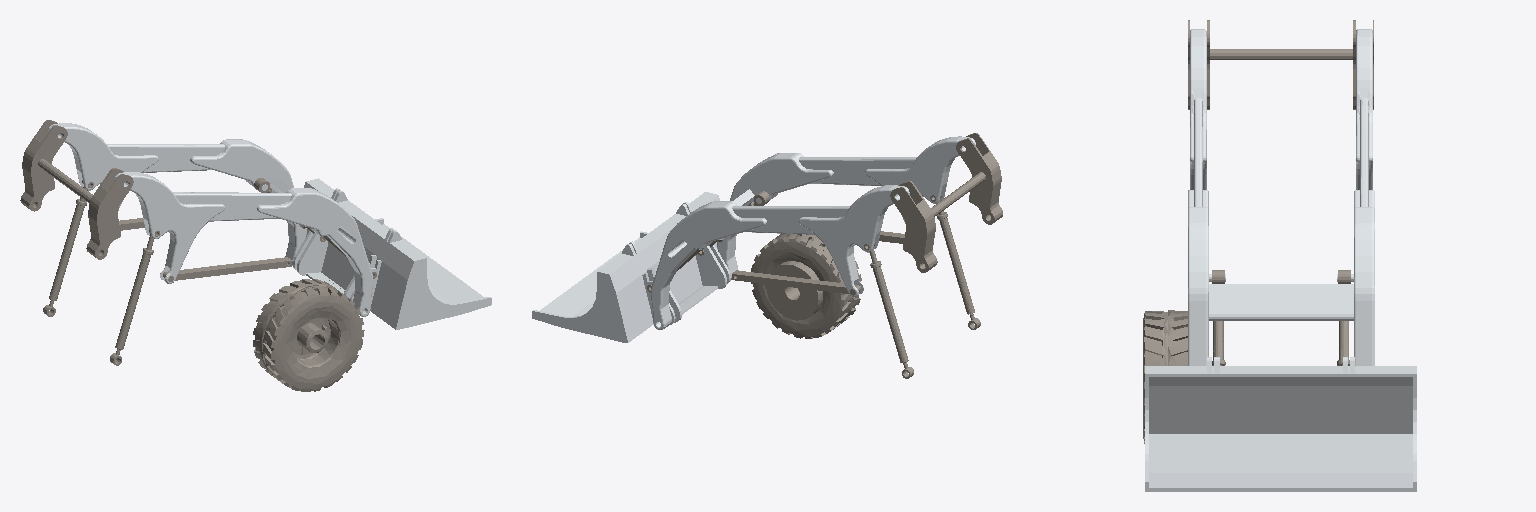
URDF robot description (bobcat):
<?xml version="1.0"?>
<robot name="bobcat">
  <link name="body">
    <inertial>
      <origin
        xyz="-0.890714078986241 0.000176354230843794 0.525609535873677"
        rpy="0 0 0" />
      <mass
        value="5018.57981030941" />
      <inertia
        ixx="1272.55944993386"
        ixy="0.30897993676798"
        ixz="-158.353301657466"
        iyy="2264.90693597666"
        iyz="-0.107097171125939"
        izz="2025.98192908188" />
    </inertial>
    <visual>
      <origin
        xyz="0 0 0"
        rpy="0 0 0" />
      <geometry>
        <mesh
          filename="package://srvss_bobcat/sdf_models/srvss_bobcat/meshes/body.STL" />
      </geometry>
      <material
        name="">
        <color
          rgba="0.647058823529412 0.619607843137255 0.588235294117647 0.5" />
      </material>
    </visual>
    <collision>
      <origin
        xyz="0 0 0"
        rpy="0 0 0" />
      <geometry>
        <mesh
          filename="package://srvss_bobcat/sdf_models/srvss_bobcat/meshes/body.STL" />
      </geometry>
    </collision>
  </link>
  <link name="front_left_wheel">
    <inertial>
      <origin
        xyz="2.0502E-07 0.19645 -3.6566E-09"
        rpy="0 0 0" />
      <mass
        value="1113.6" />
      <inertia
        ixx="57.645"
        ixy="-0.0001268"
        ixz="0.00024451"
        iyy="96.158"
        iyz="-4.2461E-05"
        izz="57.645" />
    </inertial>
    <visual>
      <origin
        xyz="0 0 0"
        rpy="0 0 0" />
      <geometry>
        <mesh
          filename="package://srvss_bobcat/sdf_models/srvss_bobcat/meshes/front_left_wheel.STL" />
      </geometry>
      <material
        name="">
        <color
          rgba="0.64706 0.61961 0.58824 1" />
      </material>
    </visual>
    <collision>
      <origin
        xyz="0 0 0"
        rpy="0 0 0" />
      <geometry>
        <mesh
          filename="package://srvss_bobcat/sdf_models/srvss_bobcat/meshes/front_left_wheel.STL" />
      </geometry>
    </collision>
  </link>
  <joint name="front_left_wheel_joint" type="continuous">
    <origin
      xyz="-0.22722 0.47558 0.125"
      rpy="0 2.1164E-16 0" />
    <parent
      link="body" />
    <child
      link="front_left_wheel" />
    <axis
      xyz="0 1 0" />
  </joint>
  <link name="front_right_wheel">
    <inertial>
      <origin
        xyz="-2.0519E-07 -0.19645 -4.3198E-09"
        rpy="0 0 0" />
      <mass
        value="1113.6" />
      <inertia
        ixx="57.645"
        ixy="-0.00012695"
        ixz="-0.00024494"
        iyy="96.158"
        iyz="4.2098E-05"
        izz="57.645" />
    </inertial>
    <visual>
      <origin
        xyz="0 0 0"
        rpy="0 0 0" />
      <geometry>
        <mesh
          filename="package://srvss_bobcat/sdf_models/srvss_bobcat/meshes/front_right_wheel.STL" />
      </geometry>
      <material
        name="">
        <color
          rgba="0.64706 0.61961 0.58824 1" />
      </material>
    </visual>
    <collision>
      <origin
        xyz="0 0 0"
        rpy="0 0 0" />
      <geometry>
        <mesh
          filename="package://srvss_bobcat/sdf_models/srvss_bobcat/meshes/front_right_wheel.STL" />
      </geometry>
    </collision>
  </link>
  <joint name="front_right_wheel_joint" type="continuous">
    <origin
      xyz="-0.22722 -0.47558 0.125"
      rpy="0 2.1164E-16 0" />
    <parent
      link="body" />
    <child
      link="front_right_wheel" />
    <axis
      xyz="0 1 0" />
  </joint>
  <link name="back_left_wheel">
    <inertial>
      <origin
        xyz="7.7344E-08 0.19645 1.8868E-07"
        rpy="0 0 0" />
      <mass
        value="1113.6" />
      <inertia
        ixx="57.645"
        ixy="-9.3672E-06"
        ixz="-0.00022863"
        iyy="96.158"
        iyz="-0.00013365"
        izz="57.645" />
    </inertial>
    <visual>
      <origin
        xyz="0 0 0"
        rpy="0 0 0" />
      <geometry>
        <mesh
          filename="package://srvss_bobcat/sdf_models/srvss_bobcat/meshes/back_left_wheel.STL" />
      </geometry>
      <material
        name="">
        <color
          rgba="0.64706 0.61961 0.58824 1" />
      </material>
    </visual>
    <collision>
      <origin
        xyz="0 0 0"
        rpy="0 0 0" />
      <geometry>
        <mesh
          filename="package://srvss_bobcat/sdf_models/srvss_bobcat/meshes/back_left_wheel.STL" />
      </geometry>
    </collision>
  </link>
  <joint name="back_left_wheel_joint" type="continuous">
    <origin
      xyz="-1.227 0.47558 0.14772"
      rpy="0 2.1164E-16 0" />
    <parent
      link="body" />
    <child
      link="back_left_wheel" />
    <axis
      xyz="0 1 0" />
  </joint>
  <link name="back_right_wheel">
    <inertial>
      <origin
        xyz="-1.4894E-07 -0.19645 1.3751E-07"
        rpy="0 0 0" />
      <mass
        value="1113.6" />
      <inertia
        ixx="57.645"
        ixy="-6.7699E-05"
        ixz="4.3277E-05"
        iyy="96.158"
        iyz="0.00011578"
        izz="57.645" />
    </inertial>
    <visual>
      <origin
        xyz="0 0 0"
        rpy="0 0 0" />
      <geometry>
        <mesh
          filename="package://srvss_bobcat/sdf_models/srvss_bobcat/meshes/back_right_wheel.STL" />
      </geometry>
      <material
        name="">
        <color
          rgba="0.64706 0.61961 0.58824 1" />
      </material>
    </visual>
    <collision>
      <origin
        xyz="0 0 0"
        rpy="0 0 0" />
      <geometry>
        <mesh
          filename="package://srvss_bobcat/sdf_models/srvss_bobcat/meshes/back_right_wheel.STL" />
      </geometry>
    </collision>
  </link>
  <joint name="back_right_wheel_joint" type="continuous">
    <origin
      xyz="-1.227 -0.47558 0.14772"
      rpy="0 2.1164E-16 0" />
    <parent
      link="body" />
    <child
      link="back_right_wheel" />
    <axis
      xyz="0 1 0" />
  </joint>
  <link name="base_arm">
    <inertial>
      <origin
        xyz="0.066509 1.9771E-12 0.25686"
        rpy="0 0 0" />
      <mass
        value="194.91" />
      <inertia
        ixx="50.76"
        ixy="-2.9264E-11"
        ixz="0.66798"
        iyy="4.8017"
        iyz="7.0403E-12"
        izz="47.388" />
    </inertial>
    <visual>
      <origin
        xyz="0 0 0"
        rpy="0 0 0" />
      <geometry>
        <mesh
          filename="package://srvss_bobcat/sdf_models/srvss_bobcat/meshes/base_arm.STL" />
      </geometry>
      <material
        name="">
        <color
          rgba="0.64706 0.61961 0.58824 1" />
      </material>
    </visual>
    <collision>
      <origin
        xyz="0 0 0"
        rpy="0 0 0" />
      <geometry>
        <mesh
          filename="package://srvss_bobcat/sdf_models/srvss_bobcat/meshes/base_arm.STL" />
      </geometry>
    </collision>
  </link>
  <joint name="base_arm_joint" type="fixed">
    <origin
      xyz="-1.9776 0 1.1773"
      rpy="0 2.1164E-16 0" />
    <parent
      link="body" />
    <child
      link="base_arm" />
  </joint>
  <link name="main_arm">
    <inertial>
      <origin
        xyz="1.1865 -4.0206E-07 -0.60466"
        rpy="0 0 0" />
      <mass
        value="369.05" />
      <inertia
        ixx="133.74"
        ixy="0.00012791"
        ixz="-68.753"
        iyy="216.24"
        iyz="-4.6593E-05"
        izz="268.55" />
    </inertial>
    <visual>
      <origin
        xyz="0 0 0"
        rpy="0 0 0" />
      <geometry>
        <mesh
          filename="package://srvss_bobcat/sdf_models/srvss_bobcat/meshes/main_arm.STL" />
      </geometry>
      <material
        name="">
        <color
          rgba="0.89412 0.91373 0.92941 1" />
      </material>
    </visual>
    <collision>
      <origin
        xyz="0 0 0"
        rpy="0 0 0" />
      <geometry>
        <mesh
          filename="package://srvss_bobcat/sdf_models/srvss_bobcat/meshes/main_arm.STL" />
      </geometry>
    </collision>
  </link>
  <joint name="main_arm_joint" type="fixed">
    <origin
      xyz="0.22304 0 0.5262"
      rpy="0 -2.1164E-16 0" />
    <parent
      link="base_arm" />
    <child
      link="main_arm" />
  </joint>
  <link name="supporter">
    <inertial>
      <origin
        xyz="0.51341 -4.9085E-16 -0.060486"
        rpy="0 0 0" />
      <mass
        value="65.29" />
      <inertia
        ixx="16.898"
        ixy="-2.3004E-13"
        ixz="-0.76501"
        iyy="6.6127"
        iyz="-2.4072E-13"
        izz="23.301" />
    </inertial>
    <visual>
      <origin
        xyz="0 0 0"
        rpy="0 0 0" />
      <geometry>
        <mesh
          filename="package://srvss_bobcat/sdf_models/srvss_bobcat/meshes/supporter.STL" />
      </geometry>
      <material
        name="">
        <color
          rgba="0.64706 0.61961 0.58824 1" />
      </material>
    </visual>
    <collision>
      <origin
        xyz="0 0 0"
        rpy="0 0 0" />
      <geometry>
        <mesh
          filename="package://srvss_bobcat/sdf_models/srvss_bobcat/meshes/supporter.STL" />
      </geometry>
    </collision>
  </link>
  <joint name="supporter_joint" type="fixed">
    <origin
      xyz="0.39771 0 -0.89486"
      rpy="0 8.0491E-16 0" />
    <parent
      link="main_arm" />
    <child
      link="supporter" />
  </joint>
  <link name="front_cylinder">
    <inertial>
      <origin
        xyz="0.16022 1.6587E-08 -0.17142"
        rpy="0 0 0" />
      <mass
        value="24.149" />
      <inertia
        ixx="4.0554"
        ixy="-4.9938E-08"
        ixz="-0.46391"
        iyy="0.95412"
        iyz="6.094E-08"
        izz="3.9926" />
    </inertial>
    <visual>
      <origin
        xyz="0 0 0"
        rpy="0 0 0" />
      <geometry>
        <mesh
          filename="package://srvss_bobcat/sdf_models/srvss_bobcat/meshes/front_cylinder.STL" />
      </geometry>
      <material
        name="">
        <color
          rgba="0.64706 0.61961 0.58824 1" />
      </material>
    </visual>
    <collision>
      <origin
        xyz="0 0 0"
        rpy="0 0 0" />
      <geometry>
        <mesh
          filename="package://srvss_bobcat/sdf_models/srvss_bobcat/meshes/front_cylinder.STL" />
      </geometry>
    </collision>
  </link>
  <joint name="front_cylinder_joint" type="fixed">
    <origin
      xyz="1.741 0 -0.80293"
      rpy="0 8.0491E-16 0" />
    <parent
      link="main_arm" />
    <child
      link="front_cylinder" />
  </joint>
  <link name="front_shaft">
    <inertial>
      <origin
        xyz="9.4954E-07 8.3283E-07 -0.19417"
        rpy="0 0 0" />
      <mass
        value="13.711" />
      <inertia
        ixx="2.4234"
        ixy="-2.5882E-07"
        ixz="1.3728E-06"
        iyy="0.41181"
        iyz="1.3005E-06"
        izz="2.0158" />
    </inertial>
    <visual>
      <origin
        xyz="0 0 0"
        rpy="0 0 0" />
      <geometry>
        <mesh
          filename="package://srvss_bobcat/sdf_models/srvss_bobcat/meshes/front_shaft.STL" />
      </geometry>
      <material
        name="">
        <color
          rgba="0.64706 0.61961 0.58824 1" />
      </material>
    </visual>
    <collision>
      <origin
        xyz="0 0 0"
        rpy="0 0 0" />
      <geometry>
        <mesh
          filename="package://srvss_bobcat/sdf_models/srvss_bobcat/meshes/front_shaft.STL" />
      </geometry>
    </collision>
  </link>
  <joint name="front_shaft_joint" type="fixed">
    <origin
      xyz="0.50479 0 -0.54009"
      rpy="-3.1416 0.75163 -3.1416" />
    <parent
      link="front_cylinder" />
    <child
      link="front_shaft" />
  </joint>
  <link name="loader">
    <inertial>
      <origin
        xyz="0.37894 2.192E-15 0.067409"
        rpy="0 0 0" />
      <mass
        value="196.06" />
      <inertia
        ixx="58.693"
        ixy="1.2282E-14"
        ixz="-3.1063"
        iyy="18.499"
        iyz="-4.2535E-15"
        izz="64.178" />
    </inertial>
    <visual>
      <origin
        xyz="0 0 0"
        rpy="0 0 0" />
      <geometry>
        <mesh
          filename="package://srvss_bobcat/sdf_models/srvss_bobcat/meshes/loader.STL" />
      </geometry>
      <material
        name="">
        <color
          rgba="0.89412 0.91373 0.92941 1" />
      </material>
    </visual>
    <collision>
      <origin
        xyz="0 0 0"
        rpy="0 0 0" />
      <geometry>
        <mesh
          filename="package://srvss_bobcat/sdf_models/srvss_bobcat/meshes/loader.STL" />
      </geometry>
    </collision>
  </link>
  <joint name="loader_joint" type="fixed">
    <origin
      xyz="2.0984 0 -1.557"
      rpy="0 2.5362E-15 0" />
    <parent
      link="main_arm" />
    <child
      link="loader" />
  </joint>
  <link name="back_cylinder">
    <inertial>
      <origin
        xyz="0.14567 5.3127E-08 0.43479"
        rpy="0 0 0" />
      <mass
        value="30.817" />
      <inertia
        ixx="10.053"
        ixy="-2.1135E-07"
        ixz="0.70965"
        iyy="2.3798"
        iyz="-5.4817E-07"
        izz="8.1729" />
    </inertial>
    <visual>
      <origin
        xyz="0 0 0"
        rpy="0 0 0" />
      <geometry>
        <mesh
          filename="package://srvss_bobcat/sdf_models/srvss_bobcat/meshes/back_cylinder.STL" />
      </geometry>
      <material
        name="">
        <color
          rgba="0.64706 0.61961 0.58824 1" />
      </material>
    </visual>
    <collision>
      <origin
        xyz="0 0 0"
        rpy="0 0 0" />
      <geometry>
        <mesh
          filename="package://srvss_bobcat/sdf_models/srvss_bobcat/meshes/back_cylinder.STL" />
      </geometry>
    </collision>
  </link>
  <joint name="back_cylinder_joint" type="fixed">
    <origin
      xyz="-1.8135 0 0.2184"
      rpy="0 8.0491E-16 0" />
    <parent
      link="body" />
    <child
      link="back_cylinder" />
  </joint>
  <link name="back_shaft">
    <inertial>
      <origin
        xyz="-1.2324E-08 -4.788E-09 -0.41004"
        rpy="0 0 0" />
      <mass
        value="20.367" />
      <inertia
        ixx="6.9354"
        ixy="-8.5203E-07"
        ixz="7.9714E-09"
        iyy="1.7047"
        iyz="-3.6983E-09"
        izz="5.2356" />
    </inertial>
    <visual>
      <origin
        xyz="0 0 0"
        rpy="0 0 0" />
      <geometry>
        <mesh
          filename="package://srvss_bobcat/sdf_models/srvss_bobcat/meshes/back_shaft.STL" />
      </geometry>
      <material
        name="">
        <color
          rgba="0.64706 0.61961 0.58824 1" />
      </material>
    </visual>
    <collision>
      <origin
        xyz="0 0 0"
        rpy="0 0 0" />
      <geometry>
        <mesh
          filename="package://srvss_bobcat/sdf_models/srvss_bobcat/meshes/back_shaft.STL" />
      </geometry>
    </collision>
  </link>
  <joint name="back_shaft_joint" type="fixed">
    <origin
      xyz="0.33441 0 0.99813"
      rpy="-5.7722E-16 0.32328 -4.9954E-16" />
    <parent
      link="back_cylinder" />
    <child
      link="back_shaft" />
  </joint>

 <!-- Transmissions for ROS Control -->
  <transmission name="tran1">
    <type>transmission_interface/SimpleTransmission</type>
    <joint name="front_right_wheel_joint"/>
    <actuator name="motor1">
      <hardwareInterface>EffortJointInterface</hardwareInterface>
      <mechanicalReduction>1</mechanicalReduction>
    </actuator>
  </transmission>

  <transmission name="tran2">
    <type>transmission_interface/SimpleTransmission</type>
    <joint name="front_left_wheel_joint"/>
    <actuator name="motor2">
      <hardwareInterface>EffortJointInterface</hardwareInterface>
      <mechanicalReduction>1</mechanicalReduction>
    </actuator>
  </transmission>

  <transmission name="tran3">
    <type>transmission_interface/SimpleTransmission</type>
    <joint name="back_right_wheel_joint"/>
    <actuator name="motor3">
      <hardwareInterface>EffortJointInterface</hardwareInterface>
      <mechanicalReduction>1</mechanicalReduction>
    </actuator>
  </transmission>

  <transmission name="tran4">
    <type>transmission_interface/SimpleTransmission</type>
    <joint name="back_left_wheel_joint"/>
    <actuator name="motor4">
      <hardwareInterface>EffortJointInterface</hardwareInterface>
      <mechanicalReduction>1</mechanicalReduction>
    </actuator>
  </transmission>

  <!-- ros_control plugin -->
  <gazebo>
    <plugin name="gazebo_ros_control" filename="libgazebo_ros_control.so">
      <robotNamespace>/srvss_bobcat</robotNamespace>
    </plugin>
  </gazebo>
  <gazebo reference="body">
    <mu1>1</mu1>
    <mu2>1</mu2>
    <selfCollide>true</selfCollide>
    <material>Gazebo/Wood</material>
  </gazebo>
  <gazebo reference="front_right_wheel">
    <mu1>1</mu1>
    <mu2>1</mu2>
    <selfCollide>true</selfCollide>
    <material>Gazebo/Grey</material>
  </gazebo>
  <gazebo reference="front_left_wheel">
    <mu1>1</mu1>
    <mu2>1</mu2>
    <selfCollide>true</selfCollide>
    <material>Gazebo/Grey</material>
  </gazebo>
  <gazebo reference="back_right_wheel">
    <mu1>1</mu1>
    <mu2>1</mu2>
    <selfCollide>true</selfCollide>
    <material>Gazebo/Grey</material>
  </gazebo>
  <gazebo reference="back_left_wheel">
    <mu1>1</mu1>
    <mu2>1</mu2>
    <material>Gazebo/Grey</material>
  </gazebo>
  <gazebo reference="base_arm">
    <mu1>1</mu1>
    <mu2>1</mu2>
    <selfCollide>true</selfCollide>
    <material>Gazebo/Grey</material>
  </gazebo>
  <gazebo reference="main_arm">
    <mu1>1</mu1>
    <mu2>1</mu2>
    <selfCollide>true</selfCollide>
    <material>Gazebo/PaintedWall</material>
  </gazebo>
  <gazebo reference="back_shaft">
    <mu1>1</mu1>
    <mu2>1</mu2>
    <selfCollide>true</selfCollide>
    <material>Gazebo/Black</material>
  </gazebo>
  <gazebo reference="supporter">
    <mu1>1</mu1>
    <mu2>1</mu2>
    <selfCollide>true</selfCollide>
    <material>Gazebo/GreyTransparent</material>
  </gazebo>
  <gazebo reference="front_cylinder">
    <mu1>1</mu1>
    <mu2>1</mu2>
    <selfCollide>true</selfCollide>
    <material>Gazebo/BlueTransparent</material>
  </gazebo>
  <gazebo reference="loader">
    <mu1>1</mu1>
    <mu2>1</mu2>
    <selfCollide>true</selfCollide>
    <material>Gazebo/Gold</material>
  </gazebo>
  <gazebo reference="front_shaft">
    <mu1>1</mu1>
    <mu2>1</mu2>
    <selfCollide>true</selfCollide>
    <material>Gazebo/Black</material>
  </gazebo>
  <gazebo reference="back_cylinder">
    <mu1>1</mu1>
    <mu2>1</mu2>
    <selfCollide>true</selfCollide>
    <material>Gazebo/BlueTransparent</material>
  </gazebo>
</robot>

--- Render facts (derived) ---
3 views of the same robot in one strip: view 1: azimuth 30°, elevation 25°; view 2: azimuth 150°, elevation 25°; view 3: azimuth 270°, elevation 25° (orthographic).
Model bobcat with 13 links and 12 joints (4 continuous, 8 fixed), rooted at body, posed all joints at 0.
Links seen in each view (by area): view 1: main_arm, loader, front_right_wheel, base_arm, back_cylinder, supporter; view 2: main_arm, loader, front_right_wheel, base_arm, back_cylinder, supporter; view 3: loader, main_arm, front_right_wheel, base_arm, front_cylinder.
Boxes of the visible links, x1,y1,x2,y2 form: main_arm: (48,123,373,316); loader: (293,178,491,329); front_right_wheel: (253,279,364,391); base_arm: (20,120,133,259); back_cylinder: (43,199,153,365); supporter: (119,218,292,281); main_arm: (651,136,975,329); loader: (532,192,730,342); front_right_wheel: (751,234,861,338); base_arm: (890,133,1002,272); back_cylinder: (870,212,980,378); supporter: (732,231,904,295); loader: (1145,357,1416,491); main_arm: (1188,29,1374,365); front_right_wheel: (1143,310,1187,443); base_arm: (1188,20,1373,109); front_cylinder: (1212,270,1350,365).
Size in the robot's own frame: 3.34 by 1.67 by 2.09 metres.
9 mesh visuals loaded from 13 distinct referenced files (9 binary STL); not drawn: 4 (reference not matched to a file when rendering).
